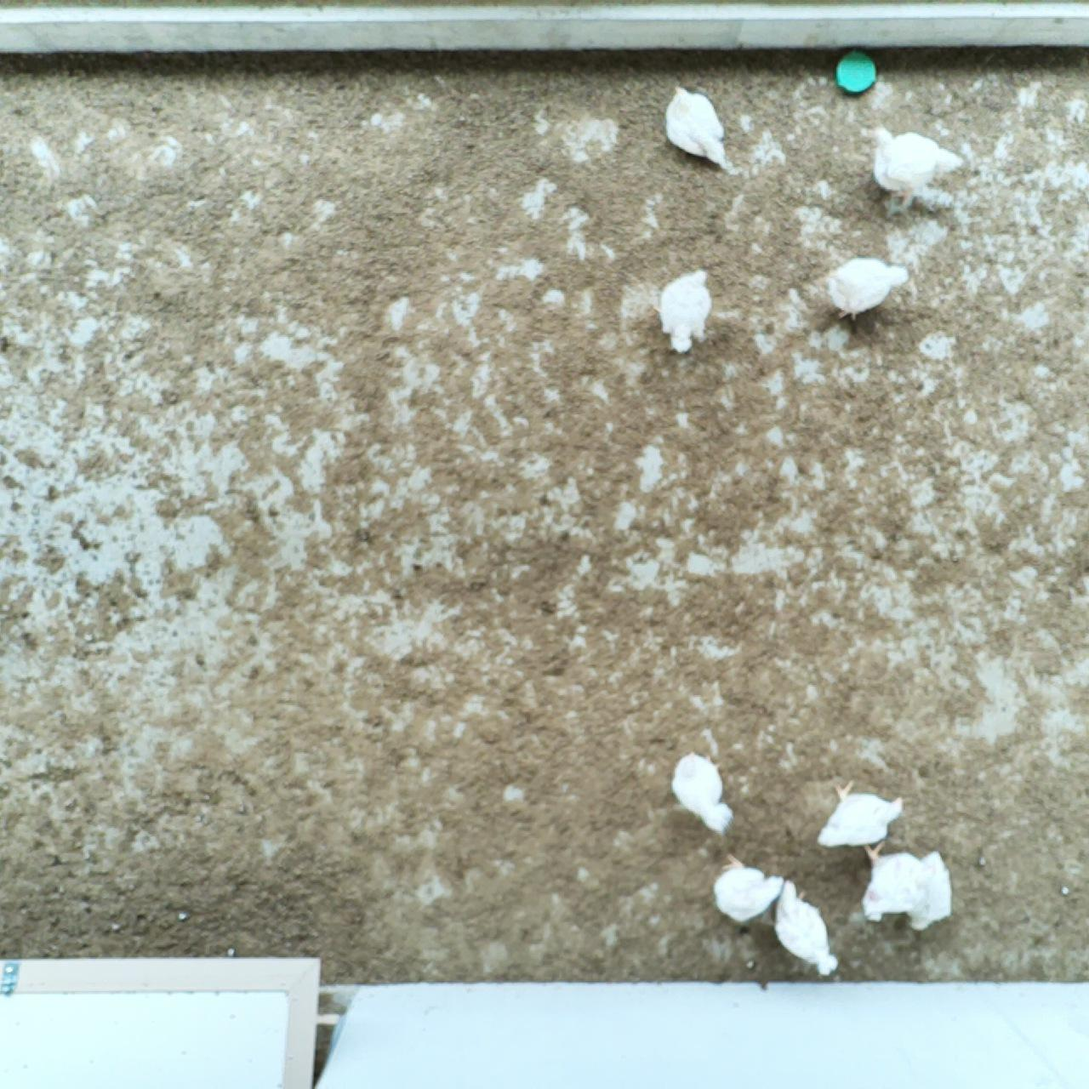chicken: (771, 874, 843, 980), (868, 119, 946, 213), (815, 777, 907, 853), (858, 839, 932, 928), (825, 251, 911, 321), (662, 82, 729, 170), (673, 748, 739, 836), (653, 265, 714, 360), (897, 842, 958, 934), (709, 851, 785, 924)
